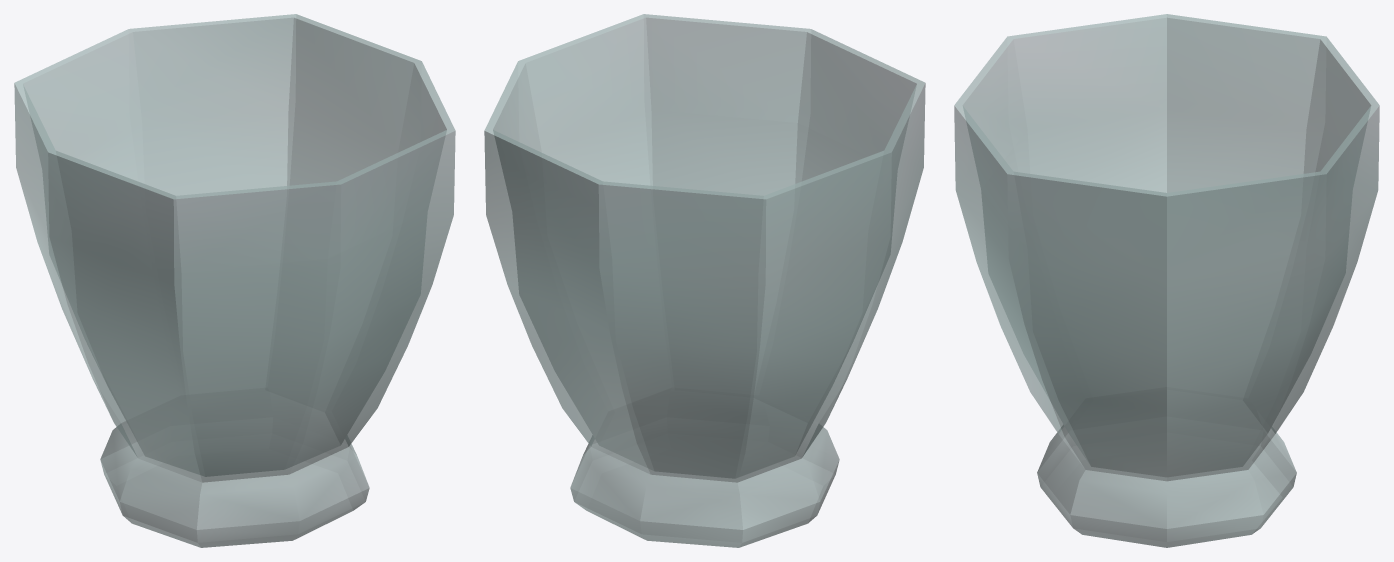
File: espresso_glass.fbx
The picture shows the model from 3 angles, left to right: view 1: azimuth 30°, elevation 25°; view 2: azimuth 150°, elevation 25°; view 3: azimuth 270°, elevation 25°; orthographic projection.
Parts seen in each view (by area): view 1: Espresso_Glass; view 2: Espresso_Glass; view 3: Espresso_Glass.
Boxes of the visible parts, x1,y1,x2,y2 form: Espresso_Glass: (14, 14, 455, 547); Espresso_Glass: (484, 14, 925, 547); Espresso_Glass: (954, 14, 1379, 547).
Size of the model in its own units: 9.3 by 9.31 by 9.15.
